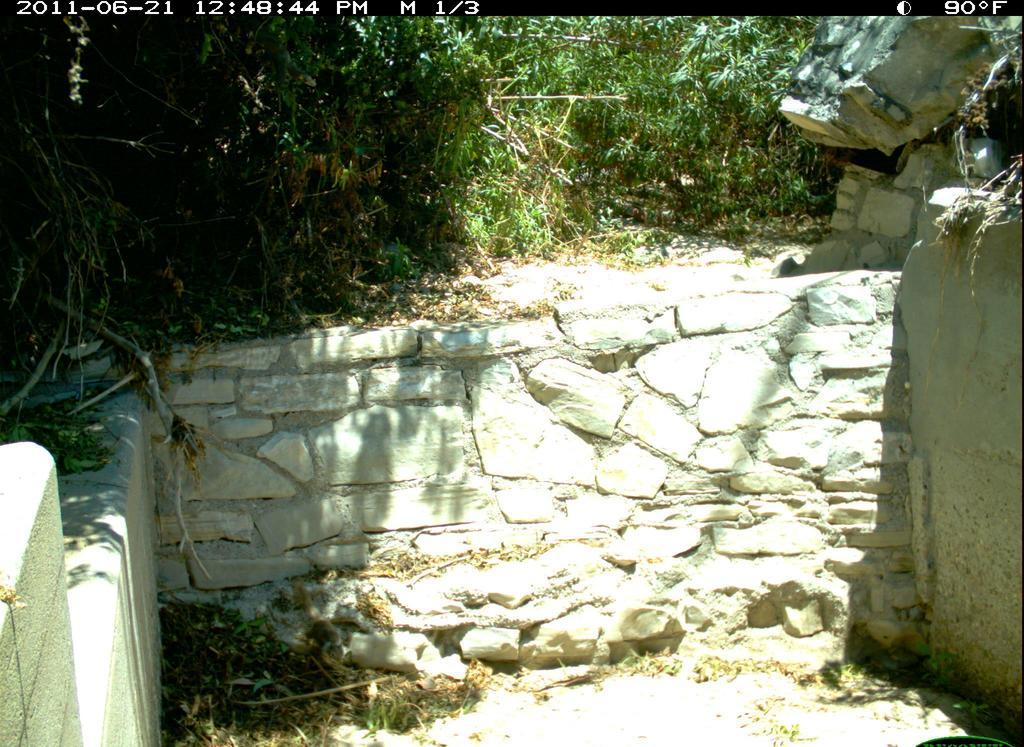squirrel: (289, 577, 351, 672)
